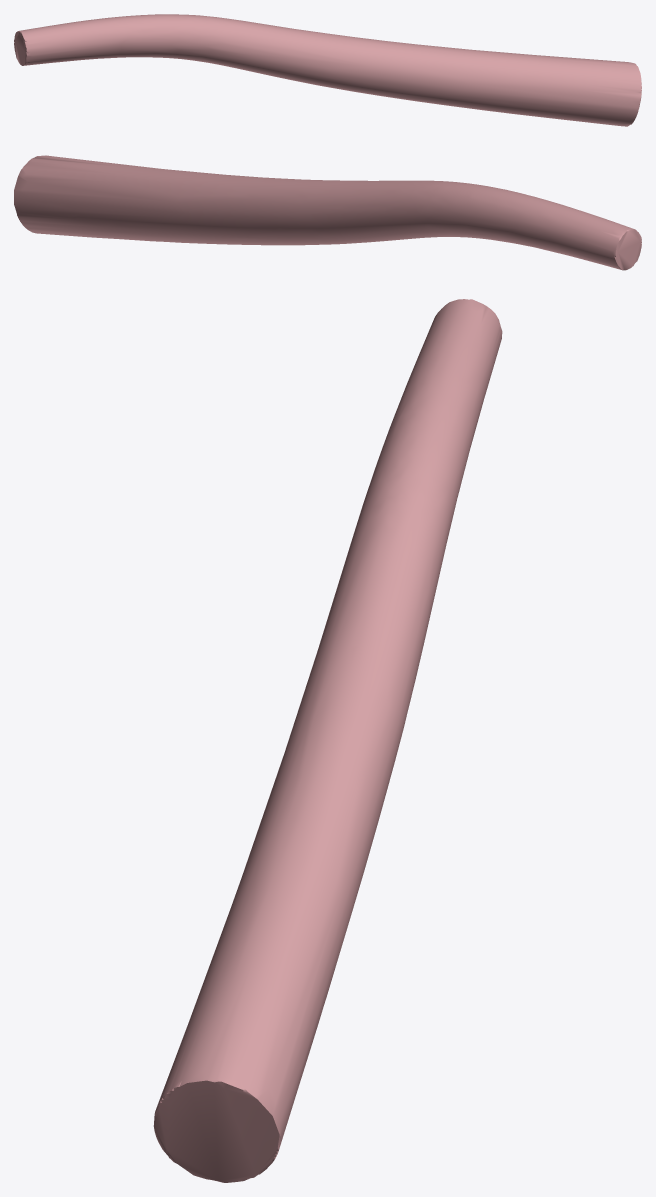
File: fma68215_fj6531.glb
3 renders of one model, top to bottom at view 1: azimuth 30°, elevation 25°; view 2: azimuth 150°, elevation 25°; view 3: azimuth 270°, elevation 25°, orthographic. The views are drawn at different scales.
Visible parts, largest first — view 1: FMA68215_FJ6531; view 2: FMA68215_FJ6531; view 3: FMA68215_FJ6531.
Boxes of the visible parts, box(x1,y1,x2,y2) form: FMA68215_FJ6531: box(14, 14, 641, 126); FMA68215_FJ6531: box(14, 155, 641, 270); FMA68215_FJ6531: box(153, 299, 502, 1182).
Bounding box in the file's own units: 0.0546 × 0.0167 × 0.0148.
